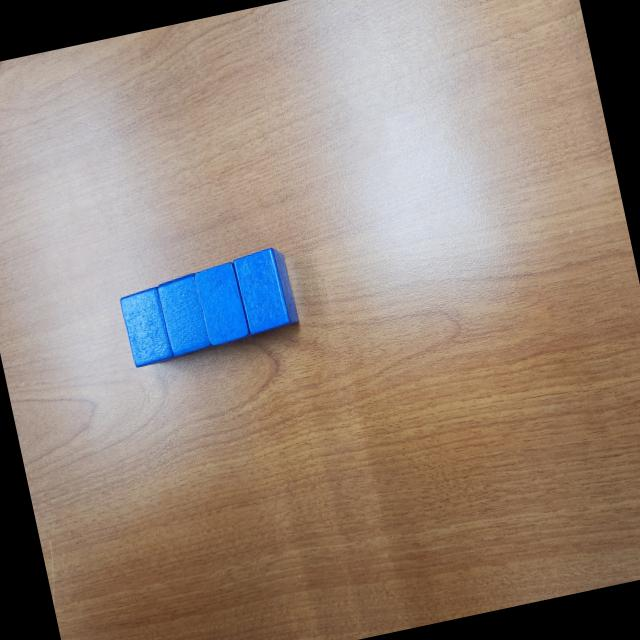blue: (231, 245, 301, 338), (193, 260, 252, 350), (154, 272, 212, 360), (119, 286, 174, 369)
